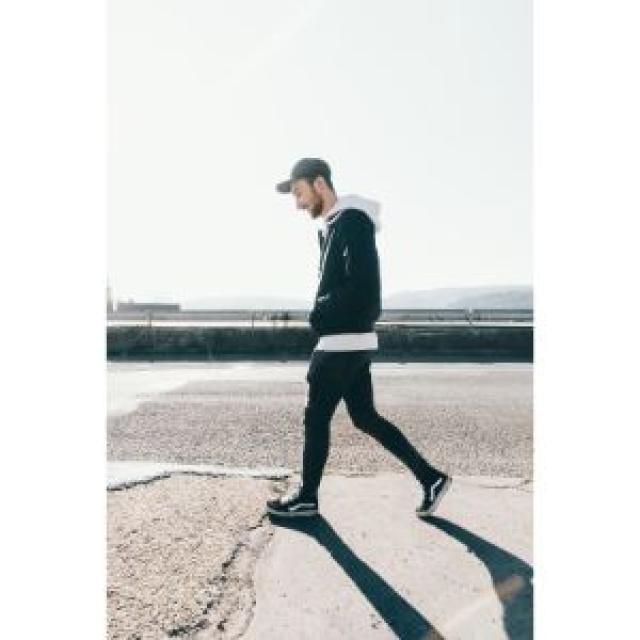nonfall: (238, 144, 464, 532)
